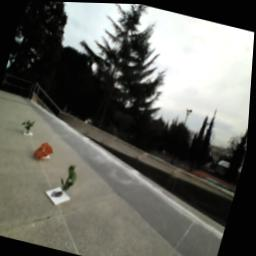herb: (59, 161, 84, 196), (23, 117, 39, 136)
wild: (35, 139, 59, 164)
